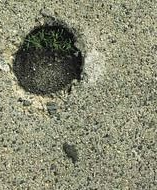Spalling: (12, 23, 85, 98)
